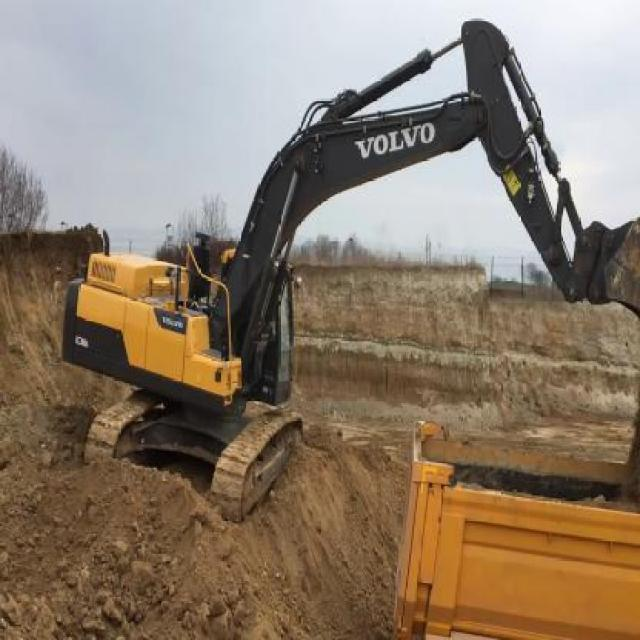Excavator: (61, 17, 639, 521)
